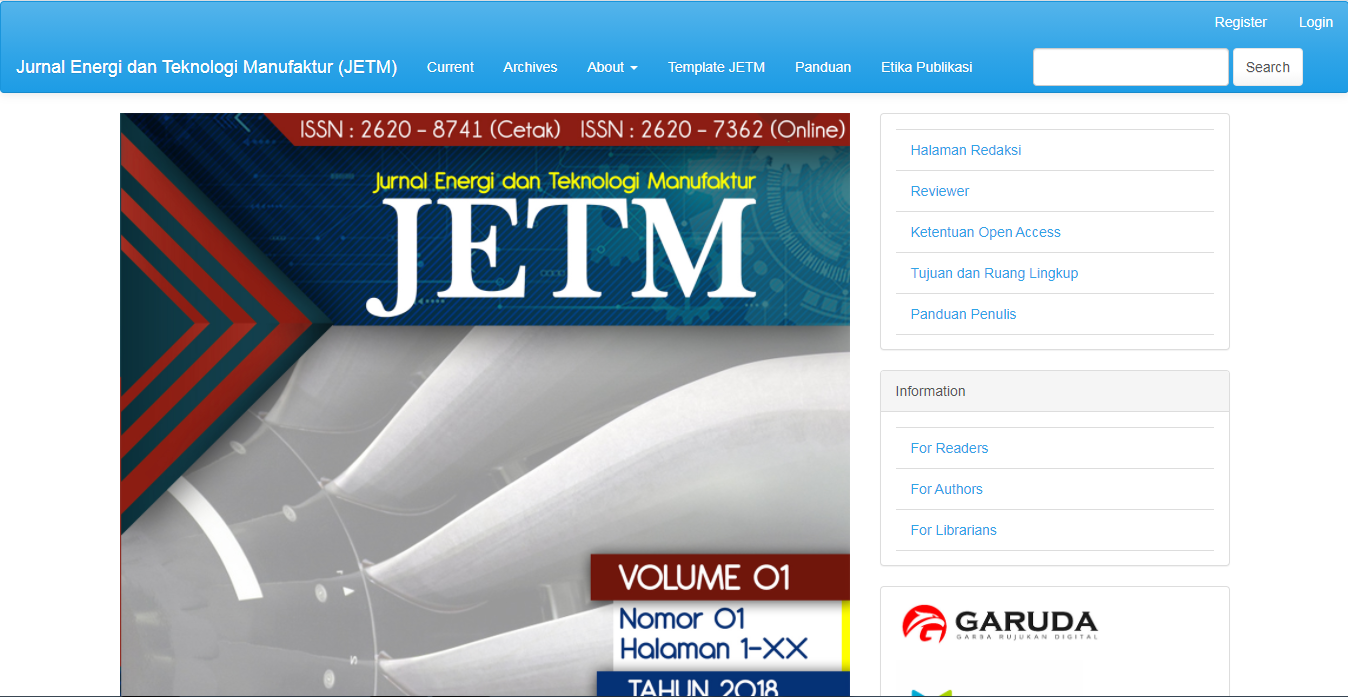Image: (121, 109, 851, 697), (883, 577, 1111, 659)
Menu Bar: (420, 54, 978, 86)
Nav Bar: (904, 265, 1090, 287), (908, 132, 1028, 166), (908, 221, 1063, 247), (1201, 7, 1284, 36), (906, 175, 978, 207), (904, 304, 1025, 323), (910, 438, 990, 460), (910, 524, 998, 541), (1292, 9, 1342, 38), (909, 481, 984, 497)
Side Bar: (873, 105, 1244, 697), (1233, 44, 1307, 89)
Text Field: (1024, 42, 1231, 90)
